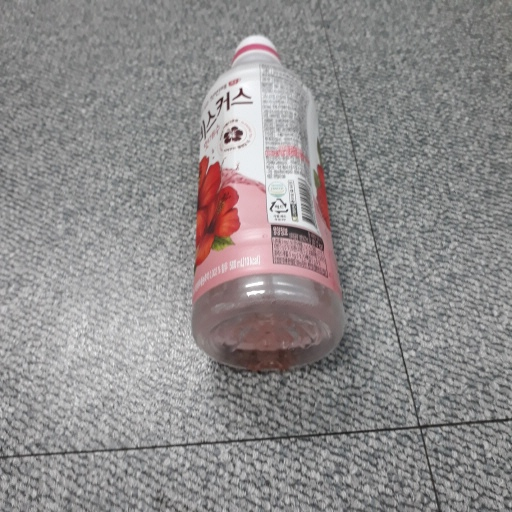Plastic_0: (190, 33, 345, 373)
